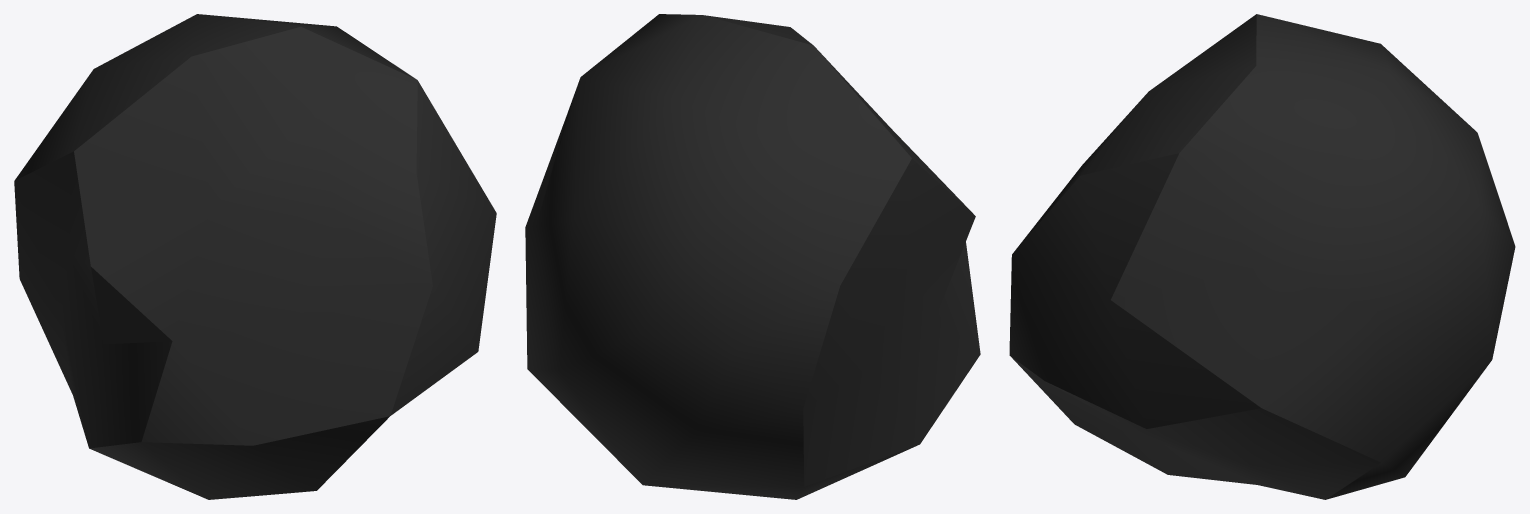
The model's file is rock1dark.FBX.
The picture shows the model from 3 angles, left to right: view 1: azimuth 30°, elevation 25°; view 2: azimuth 150°, elevation 25°; view 3: azimuth 270°, elevation 25°; orthographic projection. The views are drawn at different scales.
Parts seen in each view (by area): view 1: default; view 2: default; view 3: default.
Boxes of the visible parts, bbox=[...] form: default: bbox=[14, 14, 496, 499]; default: bbox=[525, 14, 980, 499]; default: bbox=[1009, 14, 1515, 499].
Size of the model in its own units: 0.0475 by 0.0491 by 0.0491.
Materials: 1 (1 with a texture image).
